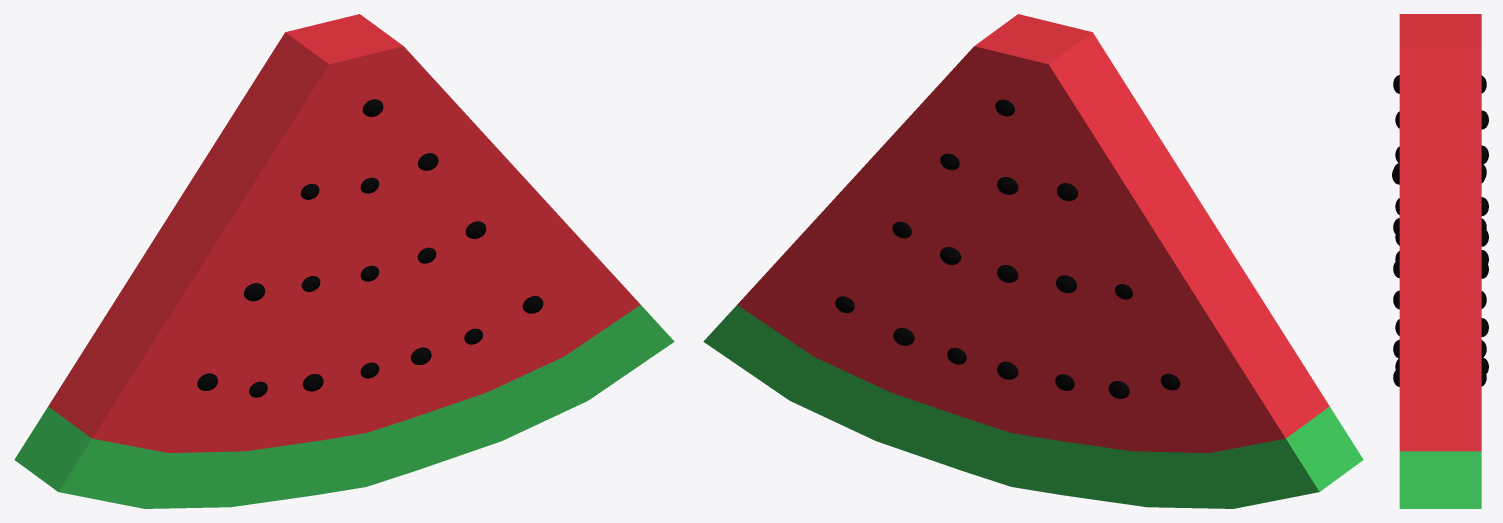
Rendered from Watermelon.fbx.
3 views of the same model, side by side, from view 1: azimuth 30°, elevation 25°; view 2: azimuth 150°, elevation 25°; view 3: azimuth 270°, elevation 25° (orthographic). The views are drawn at different scales.
Visible parts, largest first — view 1: Plane; view 2: Plane; view 3: Plane.
Part boxes in pixels (x1=…): Plane: x1=14, y1=14, x2=674, y2=508; Plane: x1=703, y1=14, x2=1363, y2=508; Plane: x1=1399, y1=14, x2=1481, y2=508.
Bounding box in the file's own units: 233 × 156 × 34.03.
